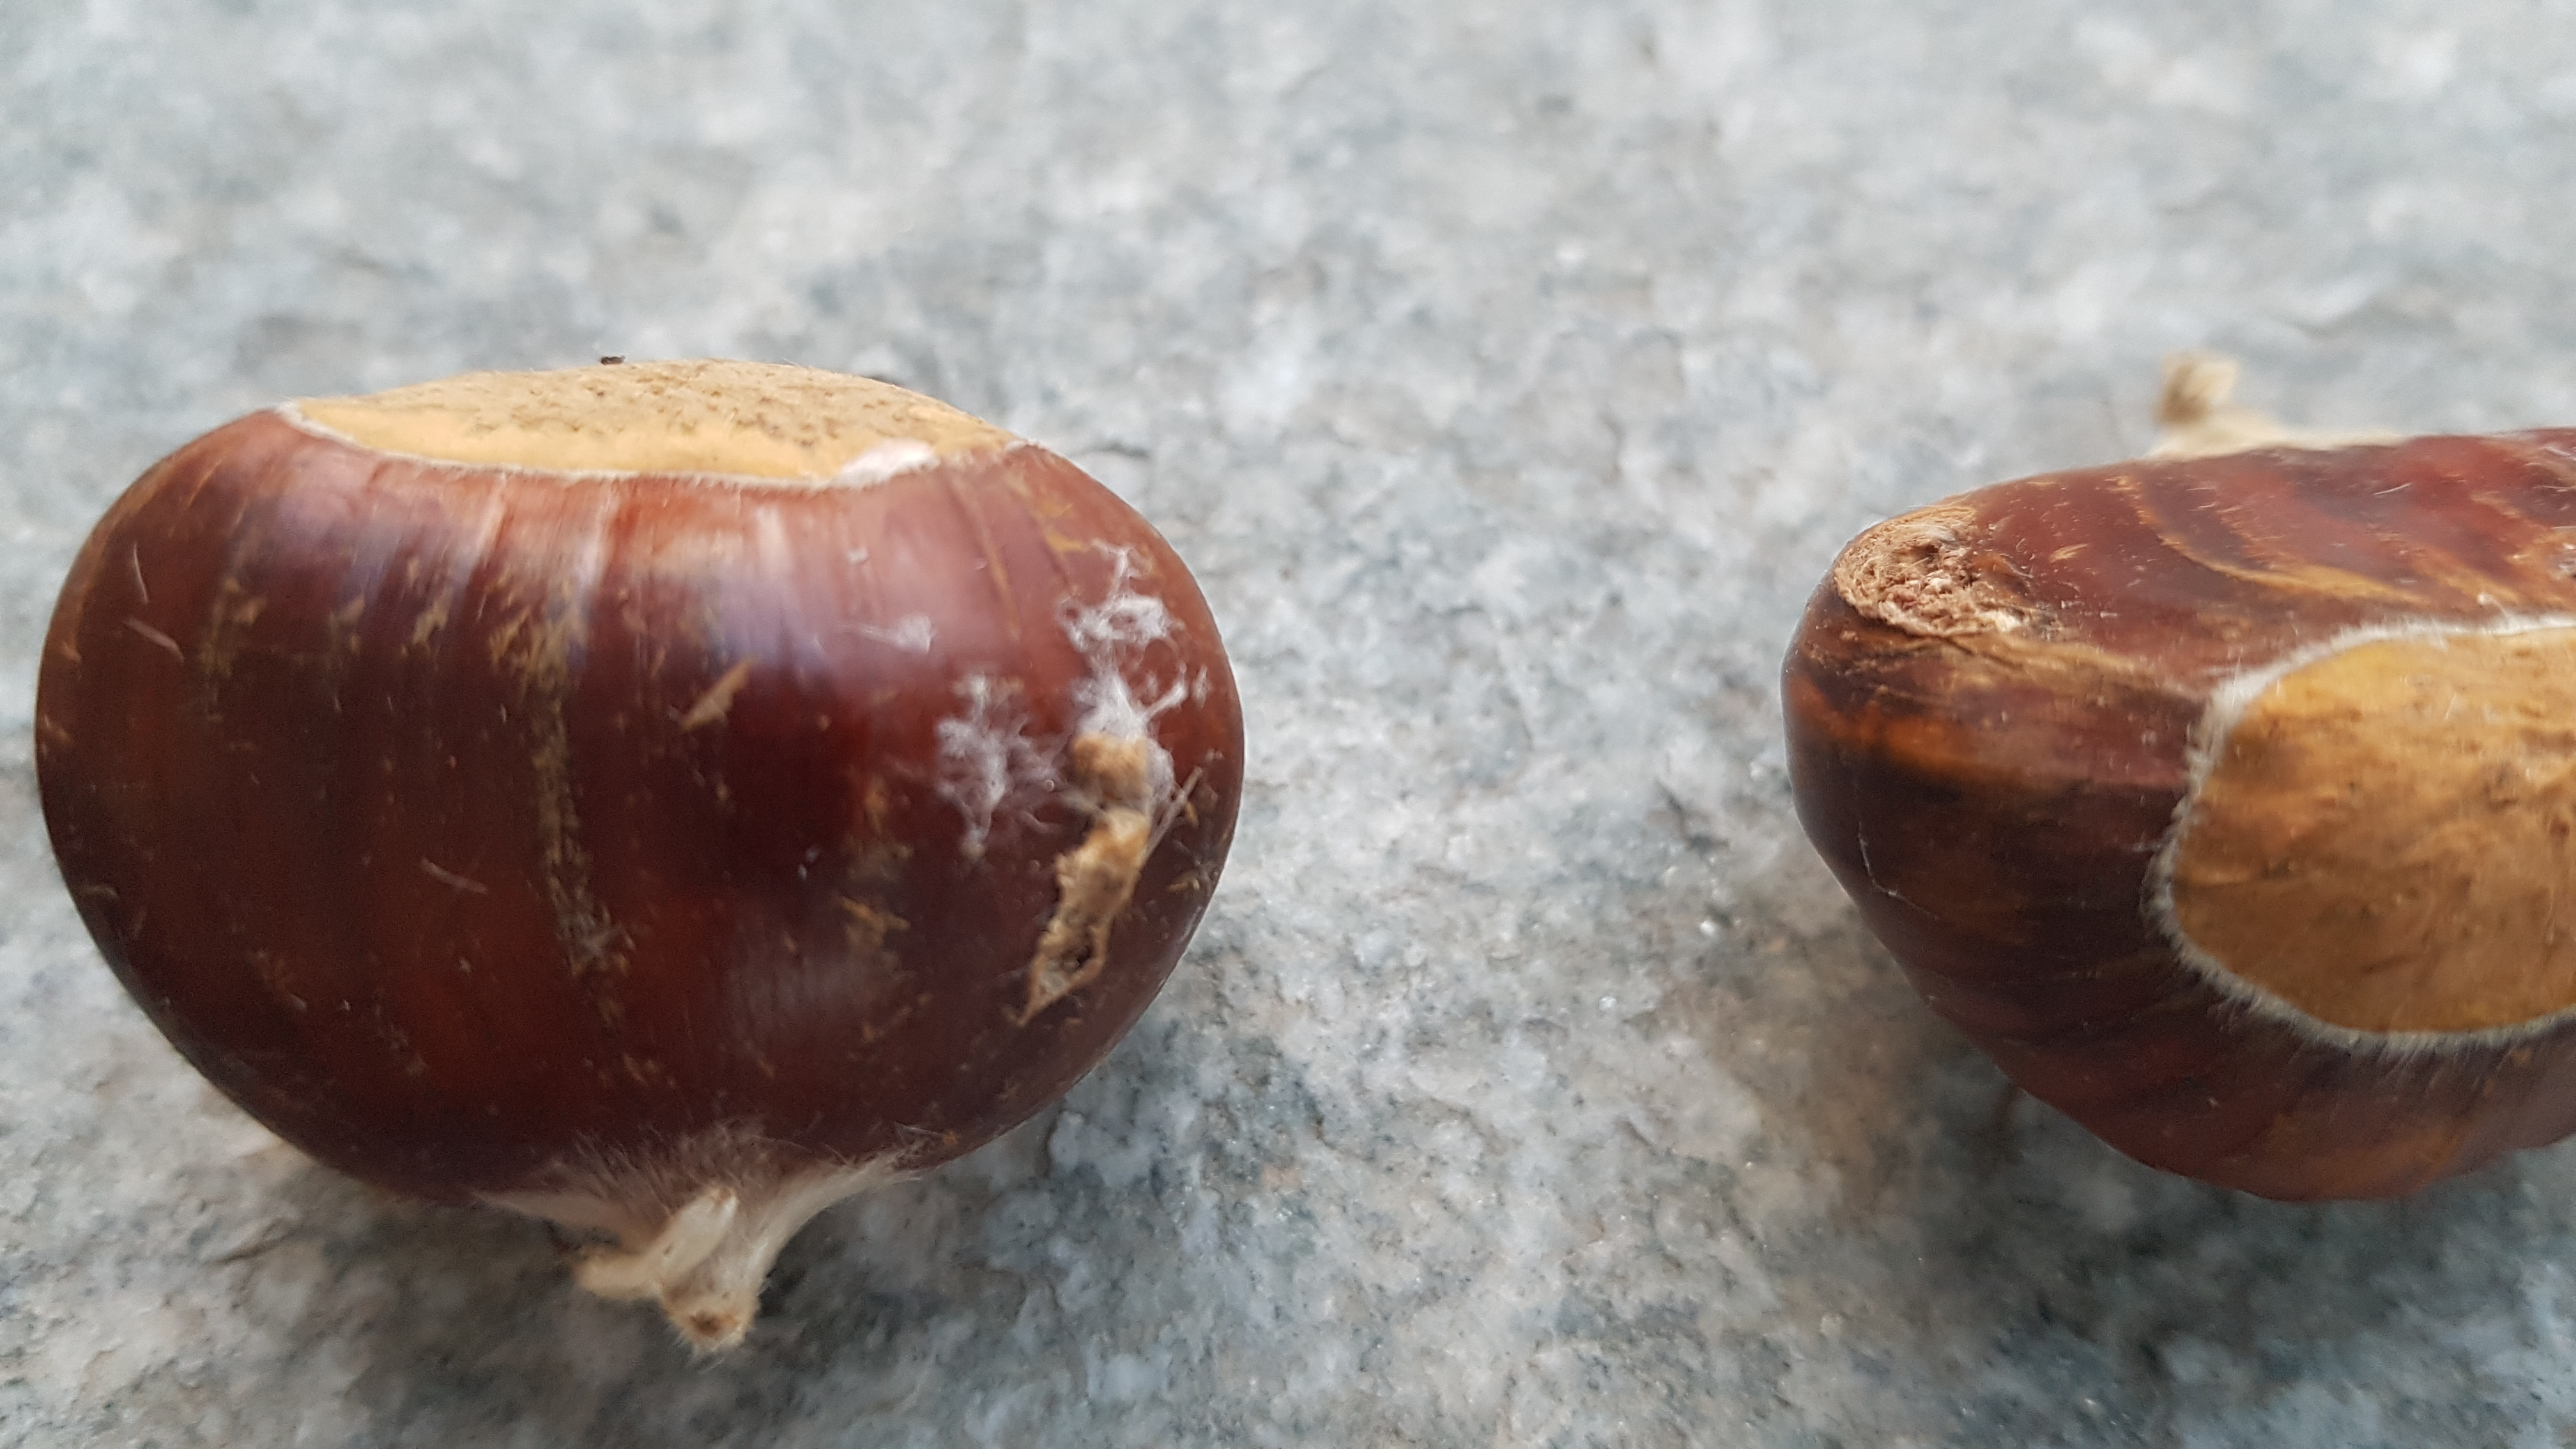camola: (1783, 472, 2091, 708)
camolaw: (962, 533, 1221, 1010)
